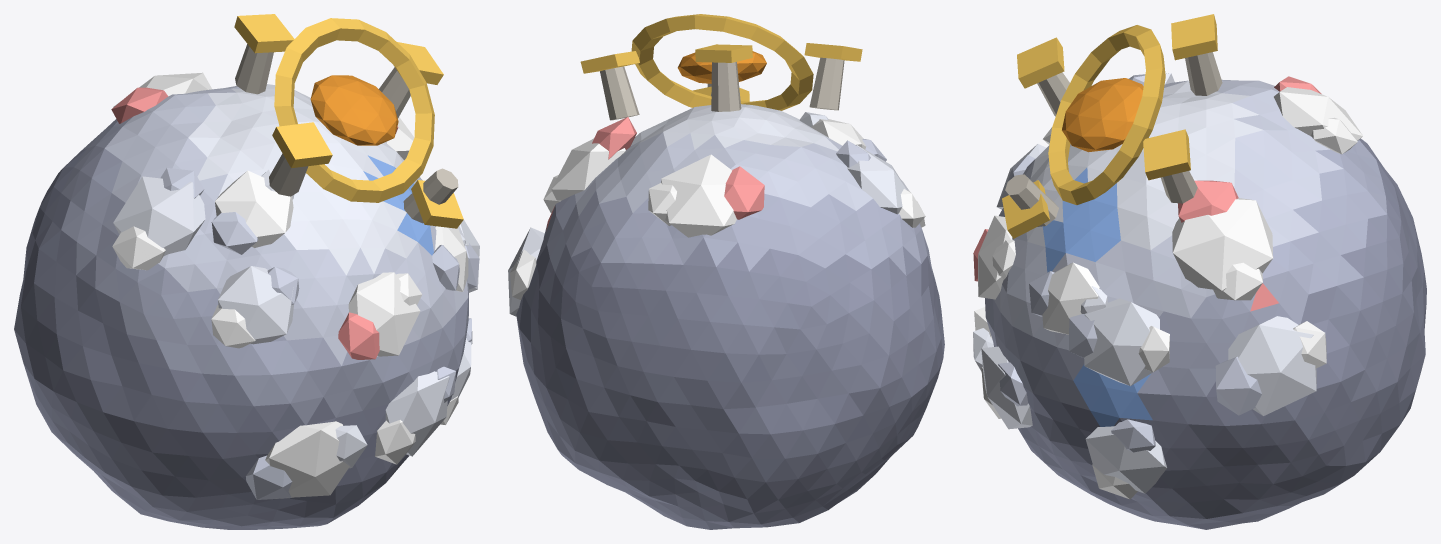
File: Cloud_07.fbx
The picture shows the model from 3 angles, left to right: view 1: azimuth 30°, elevation 25°; view 2: azimuth 150°, elevation 25°; view 3: azimuth 270°, elevation 25°; orthographic projection. The views are drawn at different scales.
Parts seen in each view (by area): view 1: Cloud_07; view 2: Cloud_07; view 3: Cloud_07.
Boxes of the visible parts, bbox=[...] form: Cloud_07: bbox=[14, 14, 479, 529]; Cloud_07: bbox=[508, 14, 944, 529]; Cloud_07: bbox=[973, 14, 1426, 529].
Bounding box in the file's own units: 6.29 × 7.36 × 6.08.
Materials: 1 (1 with a texture image).
